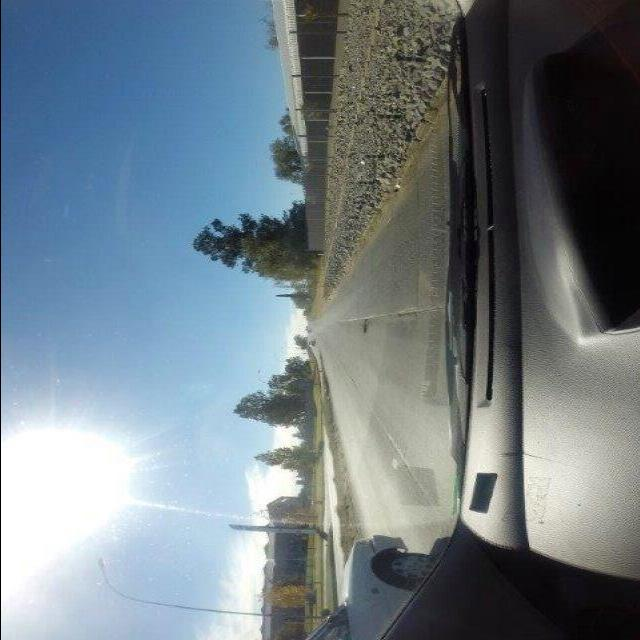jalan retak: (391, 304, 429, 322)
lubang: (358, 316, 368, 332)
